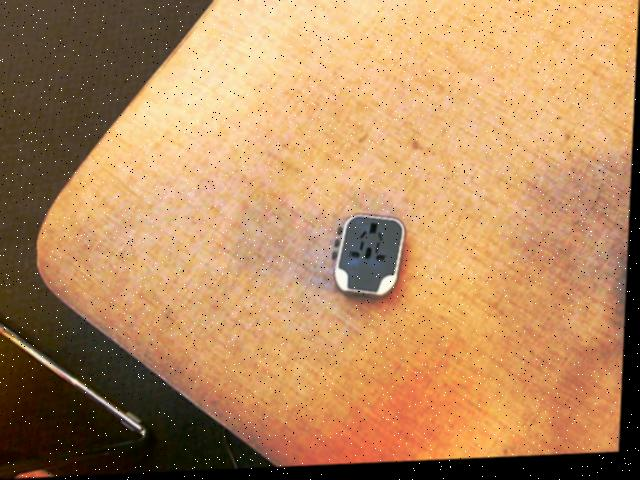adapter: (333, 215, 408, 302)
